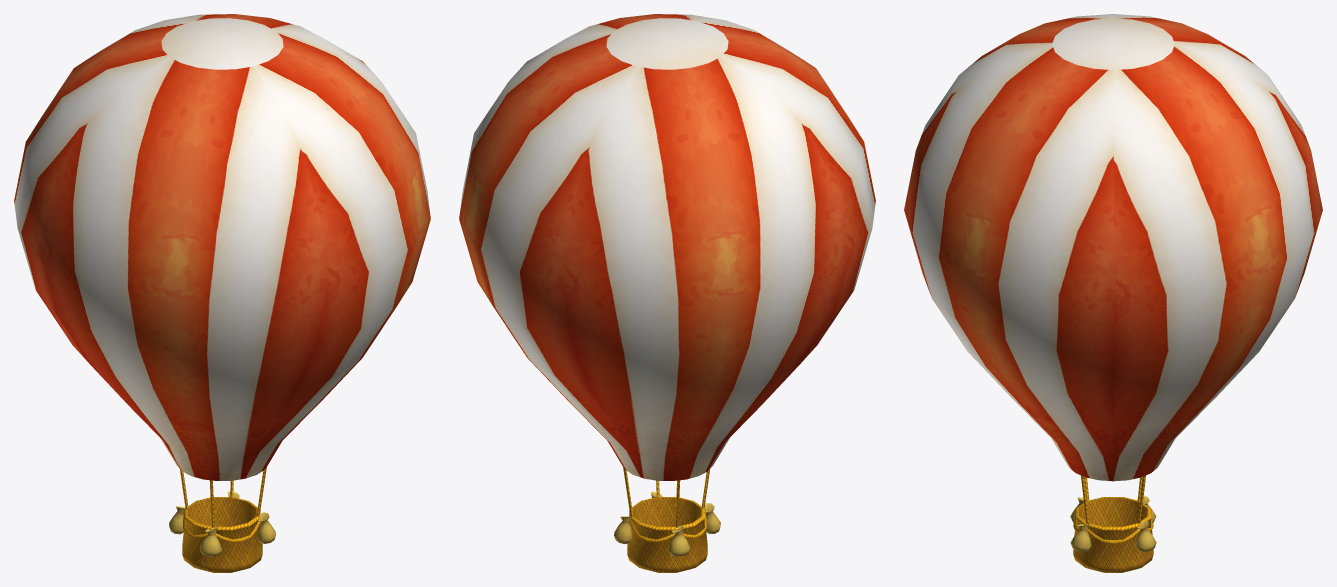
The model's file is HOS0910006.fbx.
The picture shows the model from 3 angles, left to right: view 1: azimuth 30°, elevation 25°; view 2: azimuth 150°, elevation 25°; view 3: azimuth 270°, elevation 25°; orthographic projection.
Visible parts, largest first — view 1: smHOS0910006; view 2: smHOS0910006; view 3: smHOS0910006.
Part boxes in pixels (x1,y1,x2,y2): smHOS0910006: [14, 14, 430, 572]; smHOS0910006: [459, 14, 875, 572]; smHOS0910006: [904, 14, 1322, 572].
Size of the model in its own units: 961 by 1321 by 961.
Materials: 1 (1 with a texture image).
